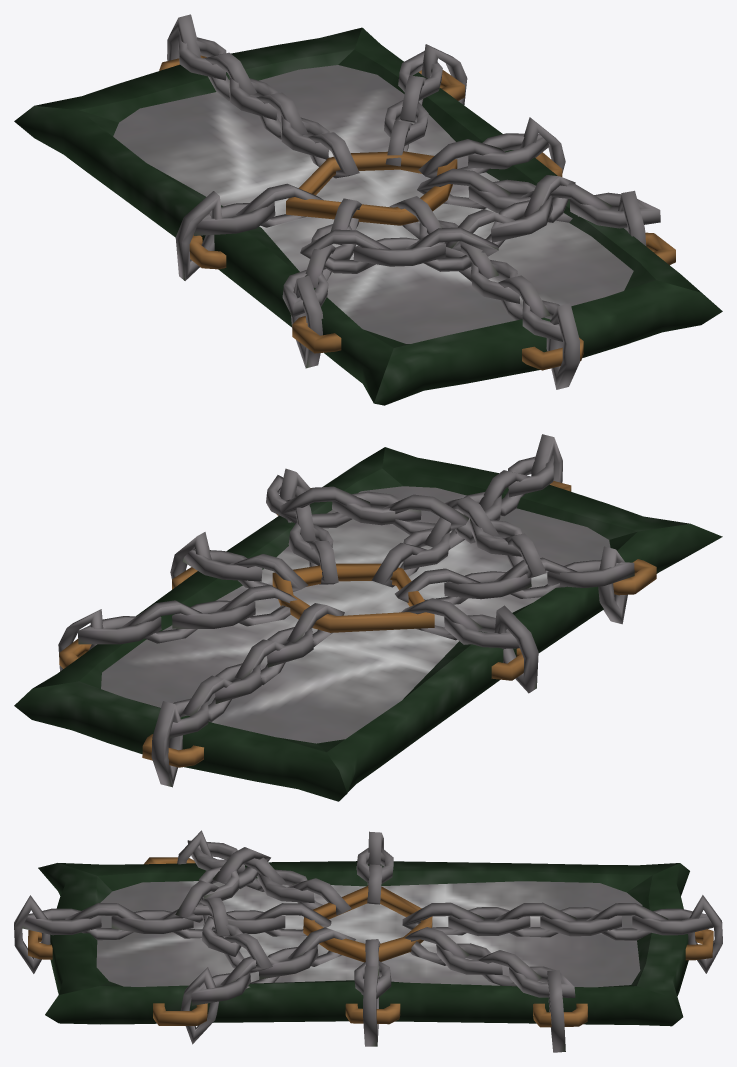
Rendered from ShieldBlackmetalTower.fbx.
The picture shows the model from 3 angles, top to bottom: view 1: azimuth 30°, elevation 25°; view 2: azimuth 150°, elevation 25°; view 3: azimuth 270°, elevation 25°; orthographic projection. The views are drawn at different scales.
Parts seen in each view (by area): view 1: attach; view 2: attach; view 3: attach.
Part boxes in pixels (x1,y1,x2,y2): attach: (14, 14, 722, 405); attach: (14, 434, 722, 801); attach: (14, 830, 722, 1052).
Size of the model in its own units: 0.8019 by 0.2069 by 1.46.
Materials: 1 (1 with a texture image).
